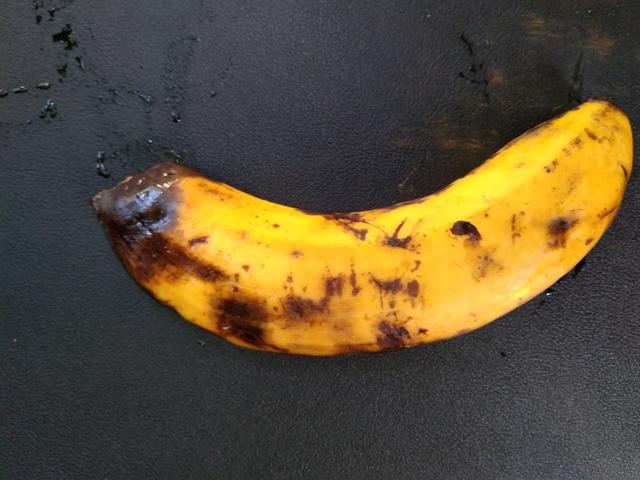overripe: (244, 91, 631, 379)
rotten: (82, 137, 298, 357)
